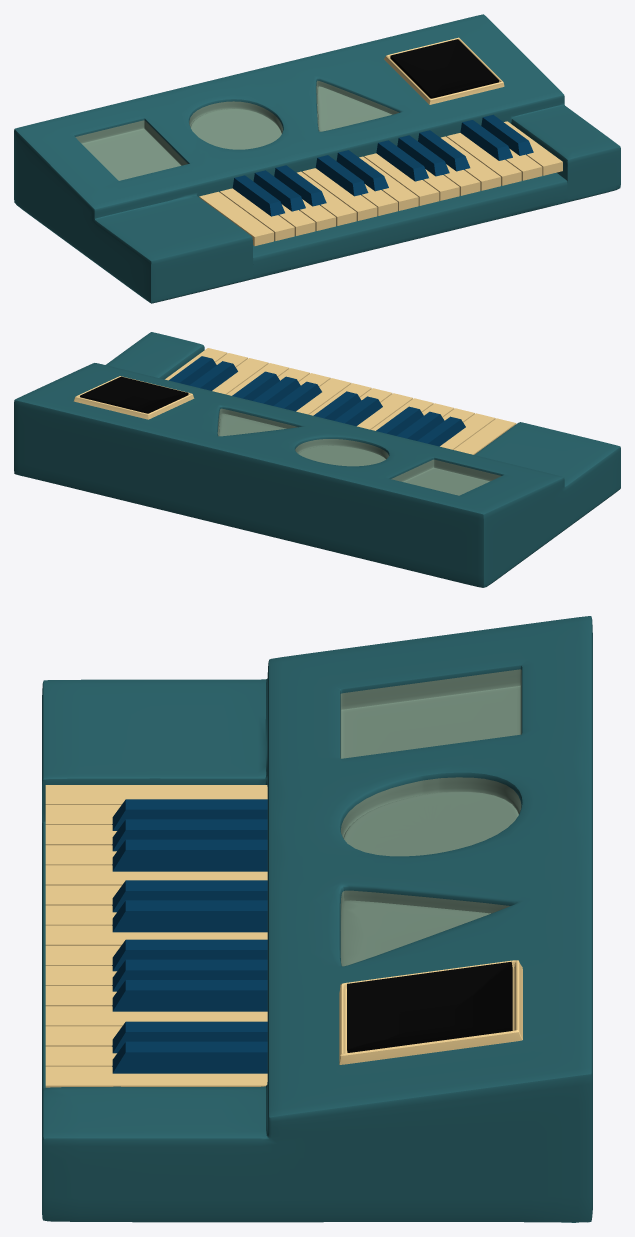
File: Synth.glb
3 views of the same model, one above another, from view 1: azimuth 30°, elevation 25°; view 2: azimuth 150°, elevation 25°; view 3: azimuth 270°, elevation 25° (orthographic). The views are drawn at different scales.
Visible parts, largest first — view 1: Body, Screen, rainCircle, slideTriangle, White Key e4, White Key c6, White Key c5, White Key f4, White Key f5, Black Key f#4, Black Key f#5, Black Key c#5 (+17 smaller); view 2: Body, Screen, rainCircle, White Key e4, slideTriangle, White Key c6, White Key c5, Black Key f#5, Black Key f#4, Black Key c#5, Black Key c#6, White Key f4 (+11 smaller); view 3: Body, Screen, rainCircle, slideTriangle, Black Key d#5, Black Key a#4, Black Key d#6, Black Key a#5, White Key e4, White Key e6, Black Key c#5, Black Key g#4 (+17 smaller).
Part boxes in pixels (x1,y1,x2,y2): Body: (14,14,620,303); Screen: (390,39,498,98); rainCircle: (190,108,281,149); slideTriangle: (317,86,391,131); White Key e4: (199,191,273,245); White Key c6: (446,133,521,185); White Key c5: (302,168,377,220); White Key f4: (220,188,294,240); White Key f5: (364,153,439,205); Black Key f#4: (232,175,284,216); Black Key f#5: (376,140,428,181); Black Key c#5: (315,155,368,196); Body: (14,332,620,587); Screen: (80,376,188,413); rainCircle: (298,445,385,466); White Key e4: (454,418,516,454); slideTriangle: (218,413,286,436); White Key c6: (212,358,268,394); White Key c5: (357,393,412,429); Black Key f#5: (273,381,321,411); Black Key f#4: (417,416,465,446); Black Key c#5: (334,396,382,426); Black Key c#6: (189,361,237,390); White Key f4: (440,413,495,449); Body: (42,616,592,1222); Screen: (347,961,512,1052); rainCircle: (343,791,518,856); slideTriangle: (341,900,490,966); Black Key d#5: (112,900,267,932); Black Key a#4: (112,839,267,871); Black Key d#6: (112,1041,267,1073); Black Key a#5: (112,980,267,1011); White Key e4: (45,785,267,804); White Key e6: (45,1066,267,1087); Black Key c#5: (112,880,267,912); Black Key g#4: (112,819,267,851).
Bounding box in the file's own units: 5.6 × 0.8675 × 2.84.
Materials: 7 (1 with a texture image).
